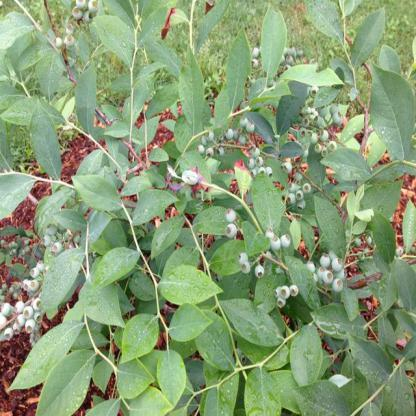Blueberry leaf: (1, 314, 86, 399), (365, 64, 415, 172), (217, 21, 263, 131), (213, 296, 291, 350), (25, 97, 66, 196), (40, 357, 109, 415), (346, 5, 395, 84), (153, 258, 222, 311), (248, 171, 296, 245), (257, 3, 295, 96), (45, 236, 94, 307), (309, 188, 346, 273), (287, 316, 328, 391), (112, 310, 165, 367), (189, 206, 259, 249), (174, 43, 207, 134), (304, 296, 365, 344), (348, 329, 400, 384), (86, 247, 143, 296), (73, 55, 105, 140), (125, 187, 181, 231), (68, 168, 125, 211), (242, 363, 289, 415), (170, 299, 219, 347), (146, 215, 187, 265), (291, 377, 342, 415)
